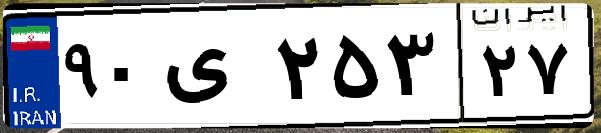0: (110, 28, 158, 98)
2: (270, 28, 330, 110), (475, 38, 525, 113)
3: (385, 28, 445, 110)
5: (330, 28, 385, 110)
7: (525, 38, 570, 115)
9: (57, 26, 110, 100)
ی: (158, 20, 270, 120)
